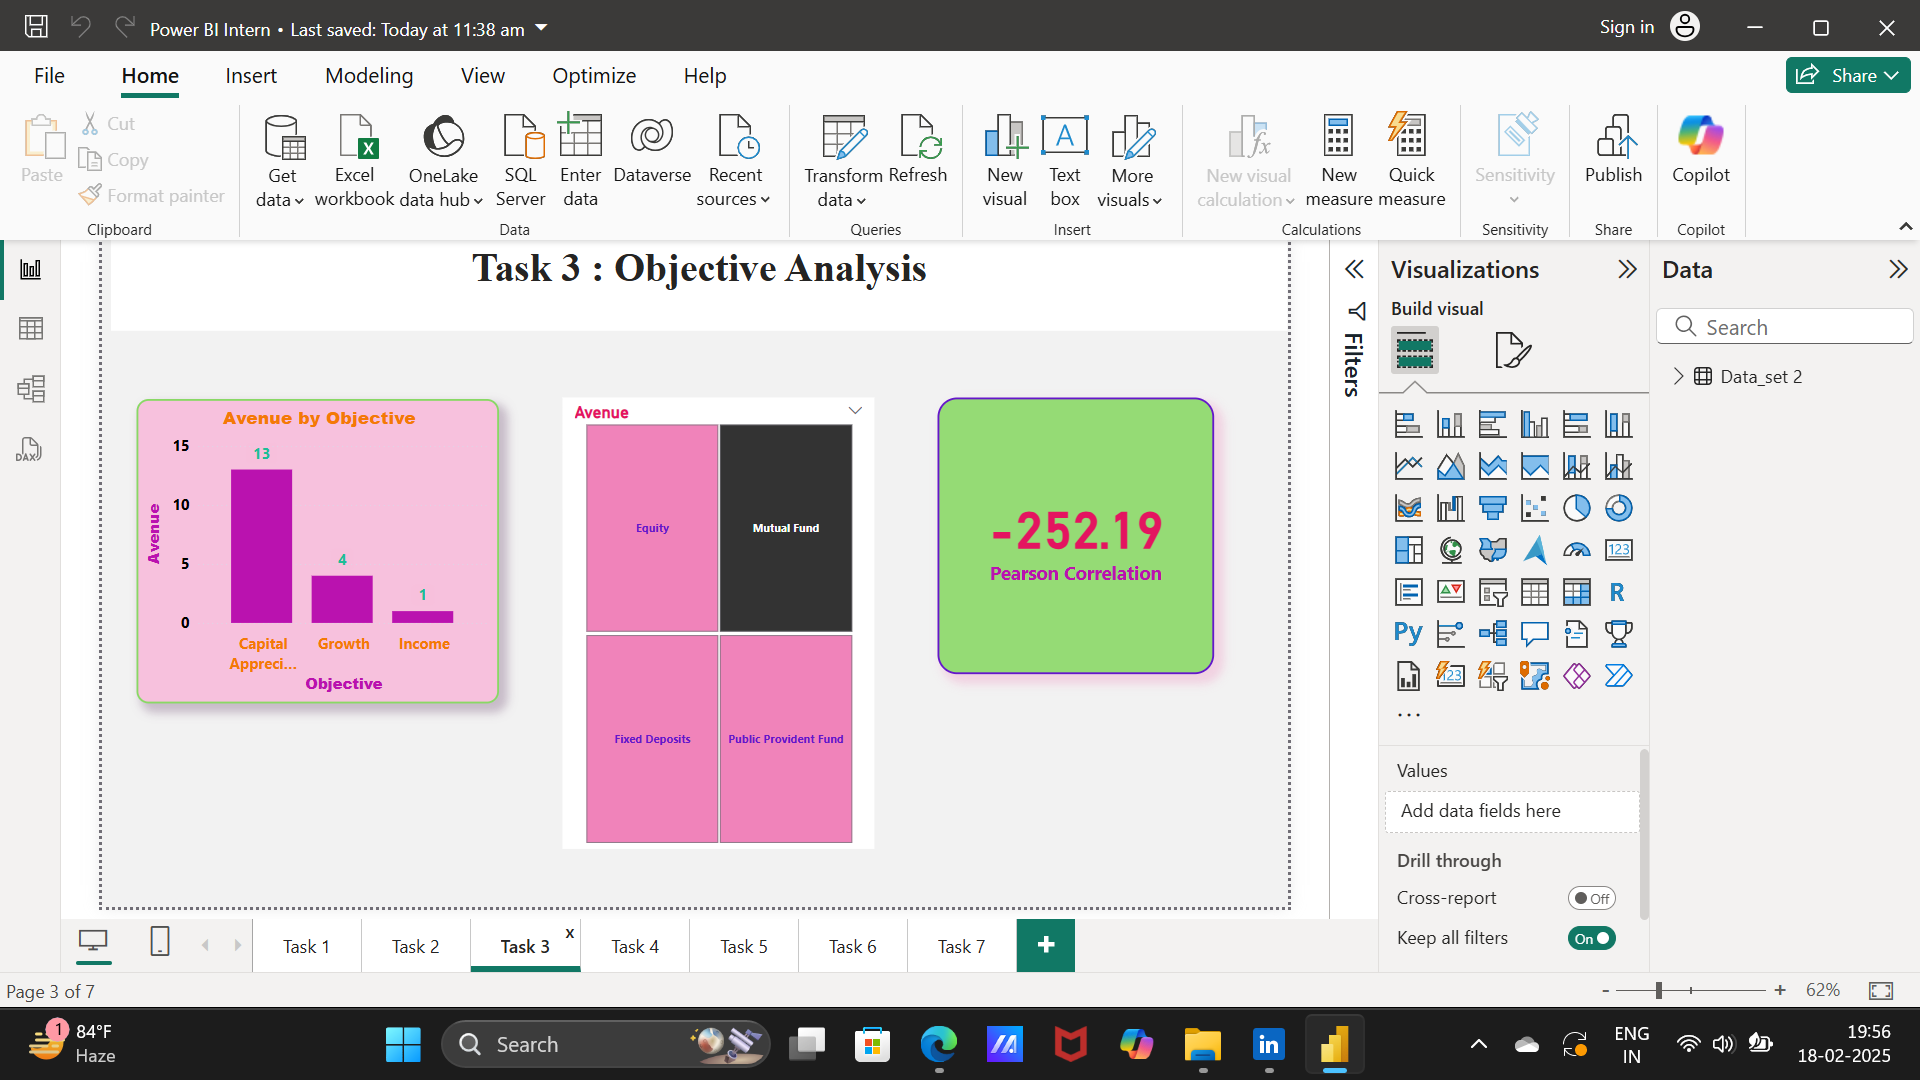

The dashboard page shown, as its layout file describes it:
{"tool":"powerbi","page":{"name":"Task 3","canvas":[1280,720],"ordinal":2},"visuals":[{"type":"card","fields":{"Values":["Data_set 2.Pearson Correlation"]},"box":[901.4,170.1,298.6,298.6],"z":0},{"type":"clusteredColumnChart","fields":{"Category":["Data_set 2.Objective"],"Y":["CountNonNull(Data_set 2.Avenue)"]},"box":[38,170.8,391,328.4],"z":1000},{"type":"slicer","fields":{"Values":["Data_set 2.Avenue"]},"box":[497,170.1,336.4,487.6],"z":2000},{"type":"textbox","box":[9.4,0,1269.9,98.3],"z":3000}]}

Visuals, with their boxes on the page's 1280x720 design canvas (x1, y1, x2, y2). These are canvas units, not pixel positions in the 1920x1080 screenshot, which may show the page scaled, cropped or inside an application window:
card - Data_set 2.Pearson Correlation: <bbox>901, 170, 1200, 469</bbox>
clusteredColumnChart - Data_set 2.Objective x CountNonNull(Data_set 2.Avenue): <bbox>38, 171, 429, 499</bbox>
slicer - Data_set 2.Avenue: <bbox>497, 170, 833, 658</bbox>
textbox: <bbox>9, 0, 1279, 98</bbox>
